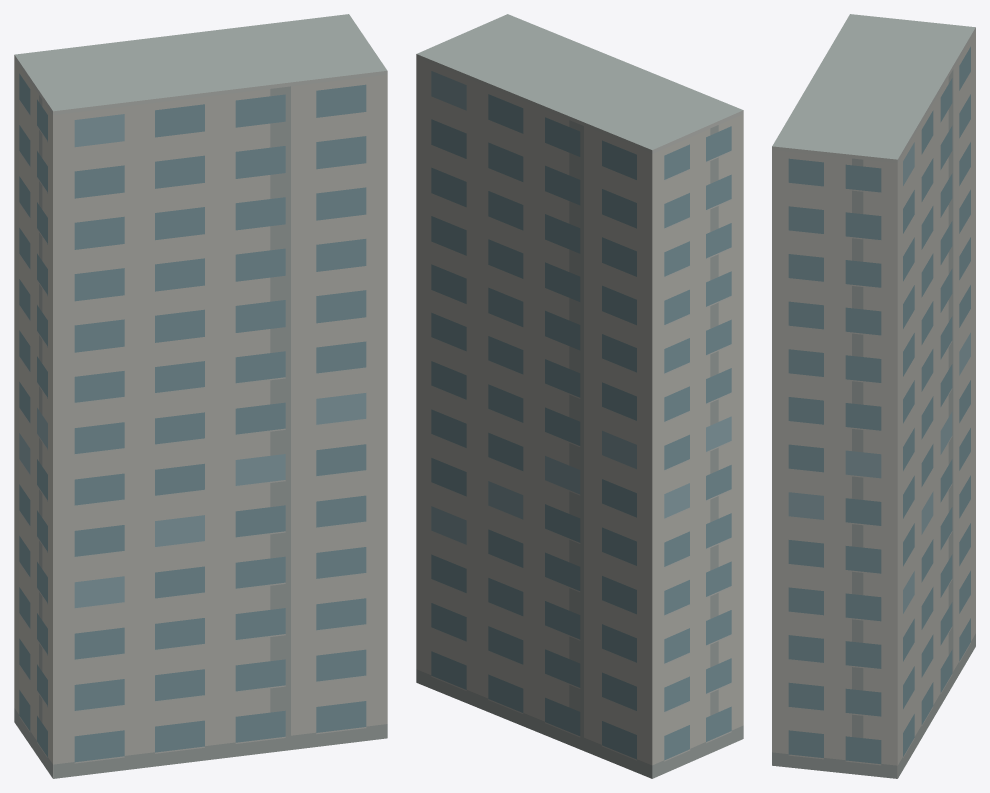
File: residential-a9281214-0f29-4460-827a-957b74269506.glb
The picture shows the model from 3 angles, left to right: view 1: azimuth 30°, elevation 25°; view 2: azimuth 150°, elevation 25°; view 3: azimuth 270°, elevation 25°; orthographic projection. The views are drawn at different scales.
Parts seen in each view (by area): view 1: residential-a9281214-0f29-4460-827a-957b74269506.tmp; view 2: residential-a9281214-0f29-4460-827a-957b74269506.tmp; view 3: residential-a9281214-0f29-4460-827a-957b74269506.tmp.
Part boxes in pixels (x1,y1,x2,y2): residential-a9281214-0f29-4460-827a-957b74269506.tmp: (14,14,387,778); residential-a9281214-0f29-4460-827a-957b74269506.tmp: (416,14,743,778); residential-a9281214-0f29-4460-827a-957b74269506.tmp: (772,14,975,778).
Size of the model in its own units: 20.68 by 41 by 12.23.
